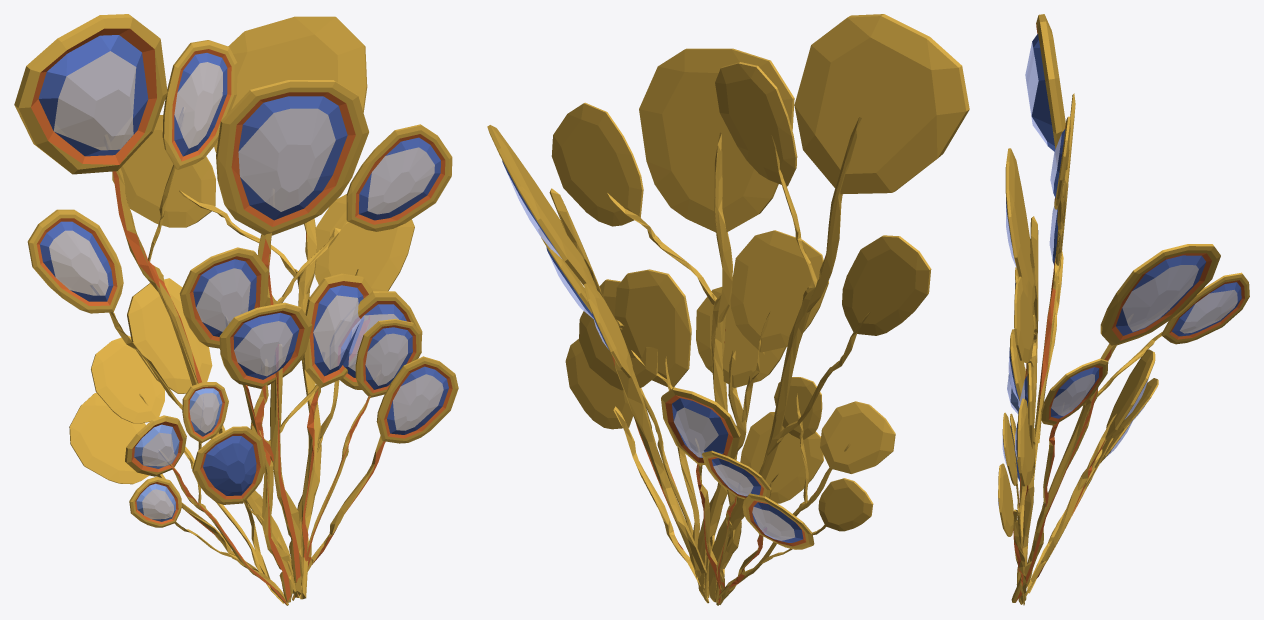
File: Biome_Air_fleurdepaon_texture.fbx
The picture shows the model from 3 angles, left to right: view 1: azimuth 30°, elevation 25°; view 2: azimuth 150°, elevation 25°; view 3: azimuth 270°, elevation 25°; orthographic projection. The views are drawn at different scales.
Visible parts, largest first — view 1: Plane.009, Plane.005, Plane.013, Plane.006, Plane.003, Plane.012, Plane.007; view 2: Plane.009, Plane.005, Plane.006, Plane.003, Plane.012, Plane.013, Plane.007; view 3: Plane.013, Plane.009, Plane.005, Plane.012, Plane.006, Plane.003.
Boxes of the visible parts, box(x1,y1,x2,y2) form: Plane.009: box(14, 14, 296, 593); Plane.005: box(179, 80, 452, 597); Plane.013: box(112, 16, 414, 599); Plane.006: box(292, 273, 458, 600); Plane.003: box(192, 291, 422, 602); Plane.012: box(69, 278, 283, 603); Plane.007: box(125, 382, 288, 605); Plane.009: box(708, 14, 969, 586); Plane.005: box(551, 48, 828, 597); Plane.006: box(565, 269, 709, 603); Plane.003: box(579, 279, 823, 602); Plane.012: box(661, 387, 814, 604); Plane.013: box(487, 125, 706, 579); Plane.007: box(716, 377, 895, 605); Plane.013: box(1011, 244, 1249, 602); Plane.009: box(1025, 14, 1075, 480); Plane.005: box(1005, 148, 1038, 604); Plane.012: box(1026, 349, 1158, 595); Plane.006: box(998, 363, 1035, 605); Plane.003: box(1008, 329, 1035, 486).
Bounding box in the file's own units: 219 × 311 × 138.
